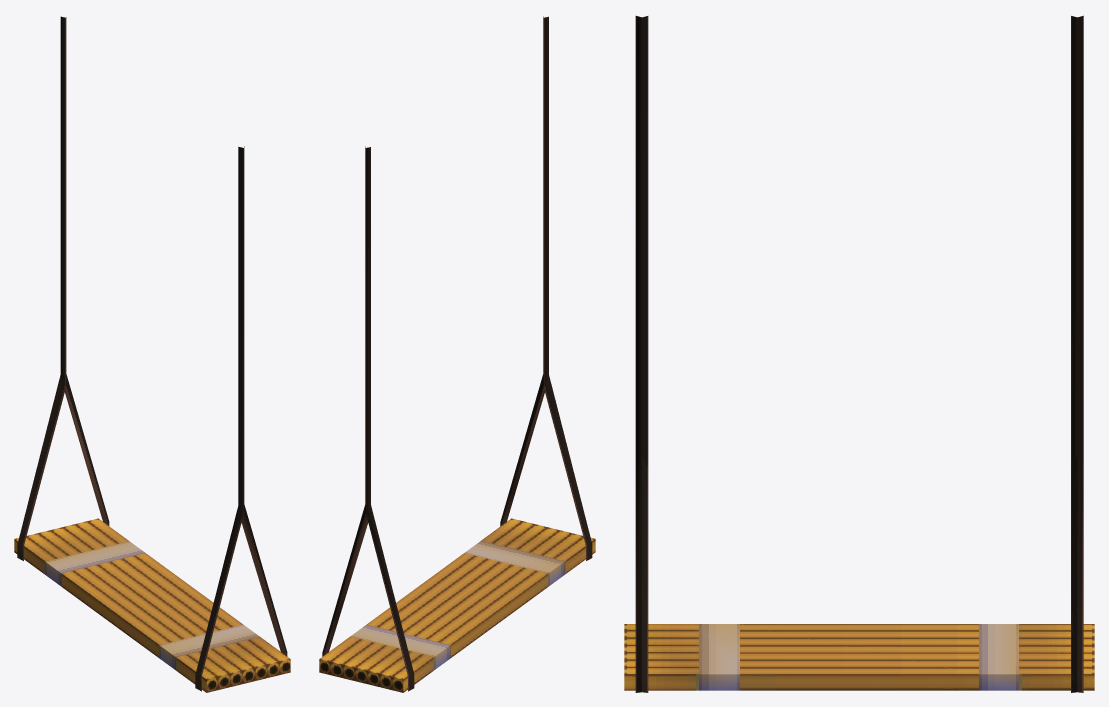
File: Cliff_Hanging_Platform_L.glb
3 renders of one model, left to right at view 1: azimuth 30°, elevation 25°; view 2: azimuth 150°, elevation 25°; view 3: azimuth 270°, elevation 25°, orthographic. The views are drawn at different scales.
Visible parts, largest first — view 1: Cliff_Hanging_Platform_L; view 2: Cliff_Hanging_Platform_L; view 3: Cliff_Hanging_Platform_L.
Part boxes in pixels (<box>): Cliff_Hanging_Platform_L: <box>14,16,290,692</box>; Cliff_Hanging_Platform_L: <box>319,16,595,692</box>; Cliff_Hanging_Platform_L: <box>624,15,1094,692</box>.
Size of the model in its own units: 1.09 by 6.05 by 3.96.
Materials: 1 (1 with a texture image).
